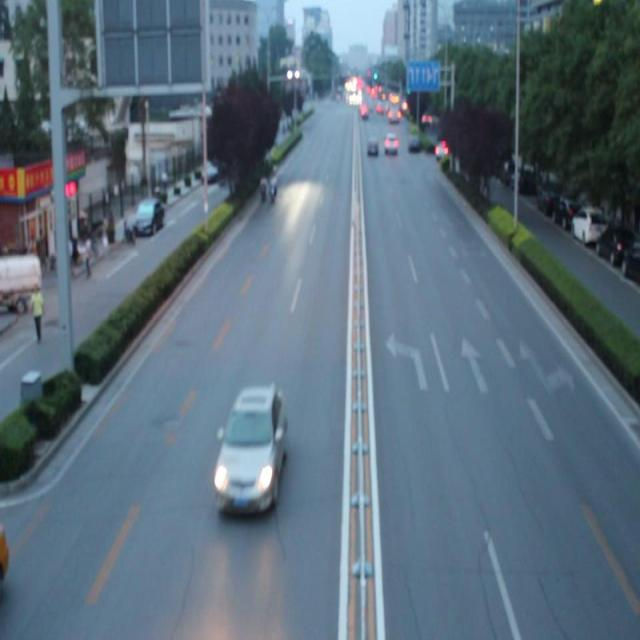car: (212, 384, 288, 516)
